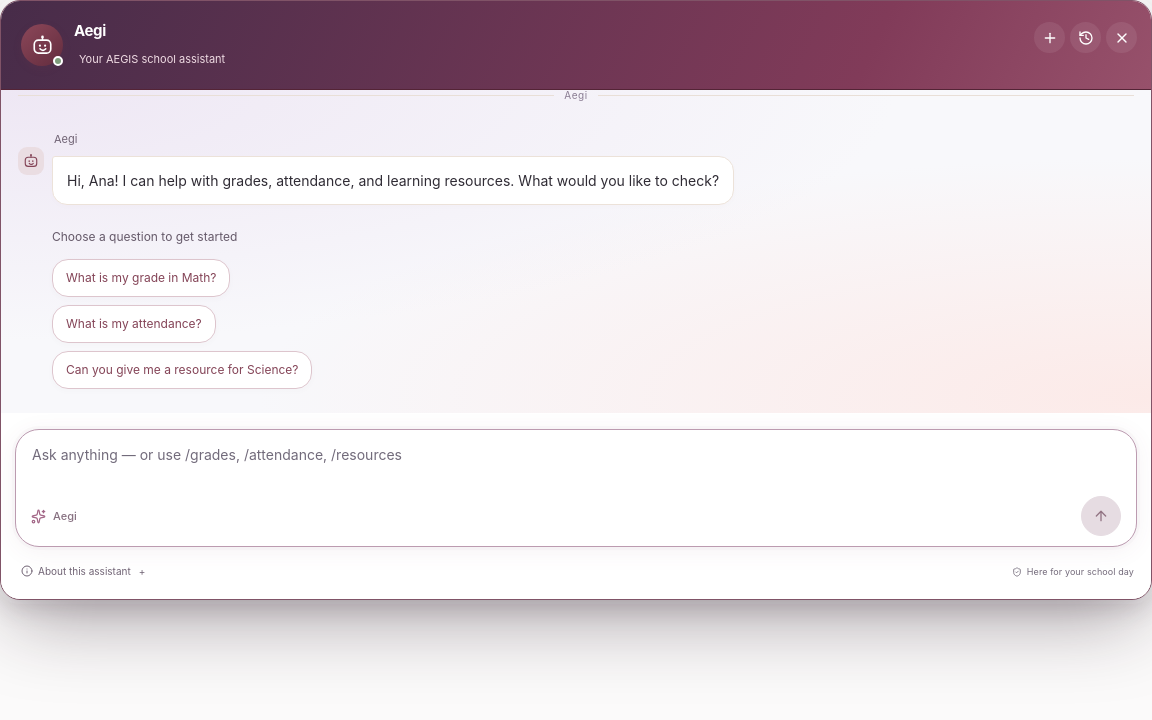
Test case: ChatbotPanel › answers an unknown command locally without sending it
The image size is (1152, 720).
(page scrolled)
Type "/nope" into the text box named "Message".
click(576, 470); type("/nope")  # box [31, 444, 1121, 496]
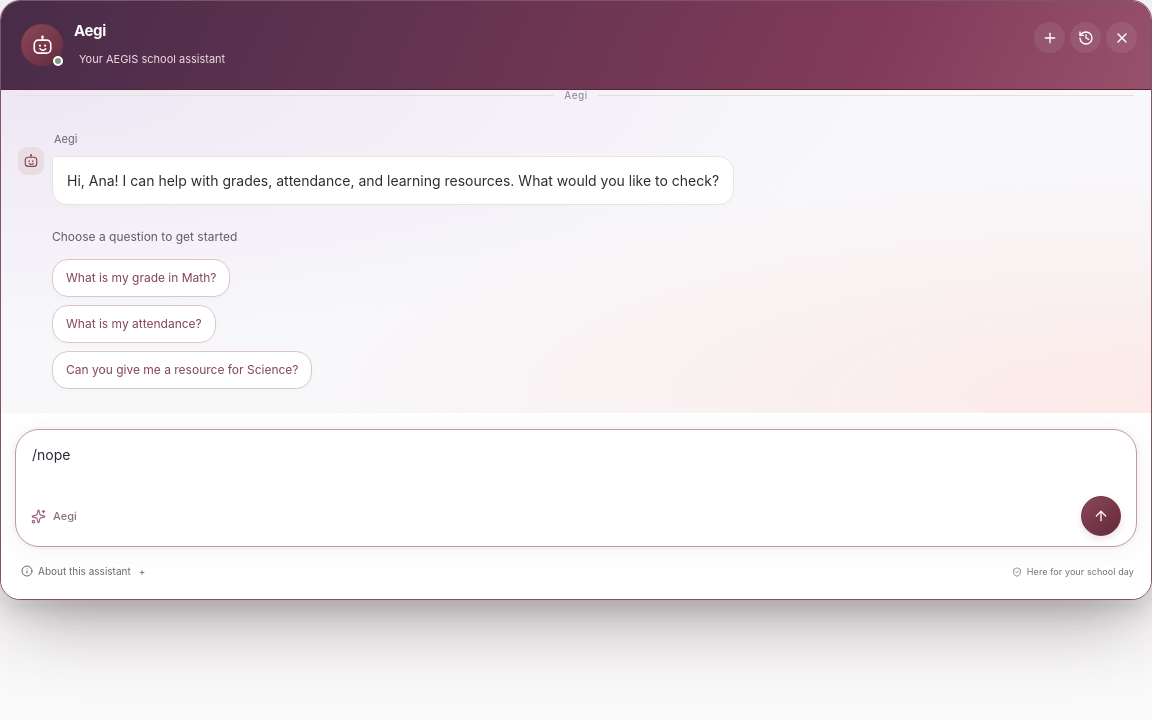
Press Enter in the text box named "Message", box [31, 444, 1121, 496]
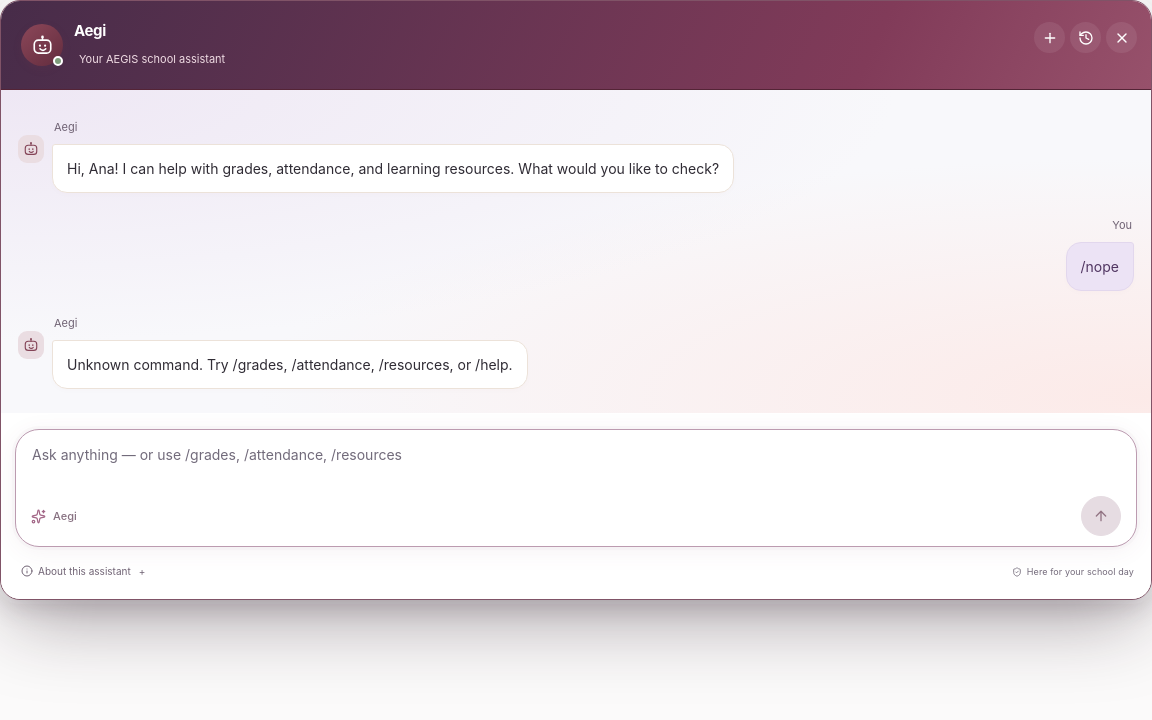
Now the text "Unknown command" is shown, box [67, 356, 513, 373]
